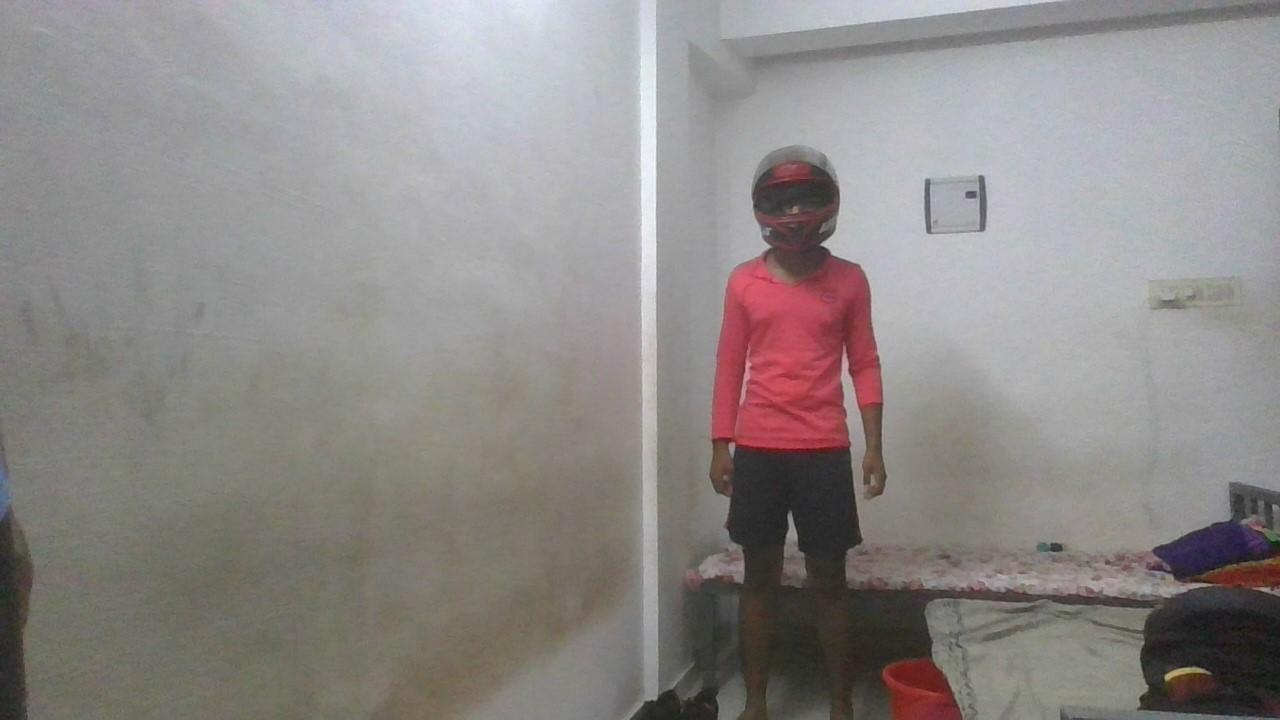helmet: (750, 144, 841, 256)
